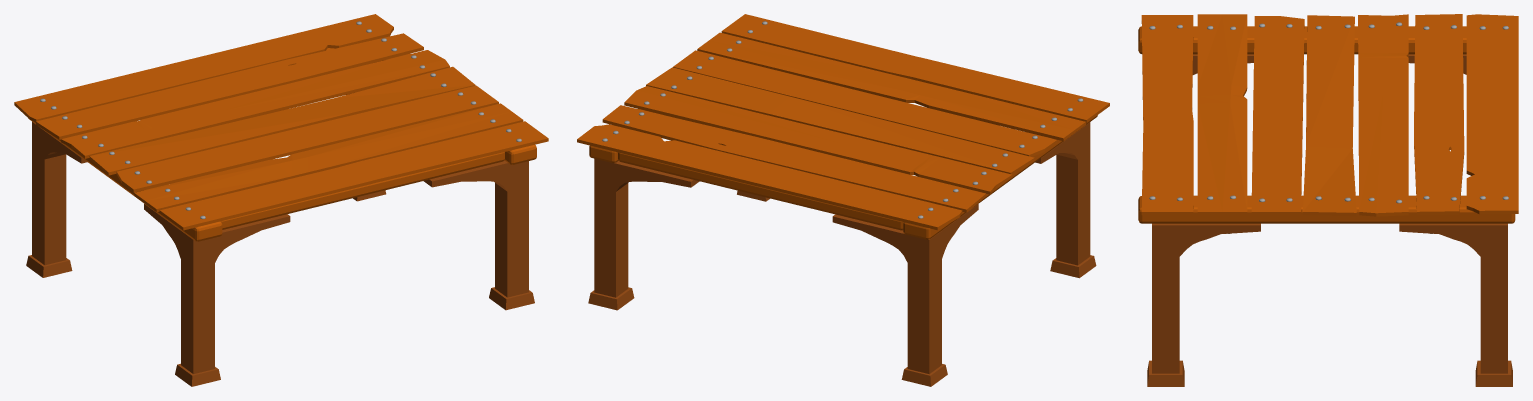
Rendered from Table2.fbx.
3 views of the same model, side by side, from view 1: azimuth 30°, elevation 25°; view 2: azimuth 150°, elevation 25°; view 3: azimuth 270°, elevation 25° (orthographic). The views are drawn at different scales.
Parts seen in each view (by area): view 1: Table2_LOD0; view 2: Table2_LOD0; view 3: Table2_LOD0.
Boxes of the visible parts, x1,y1,x2,y2 form: Table2_LOD0: (14, 14, 548, 386); Table2_LOD0: (577, 14, 1109, 386); Table2_LOD0: (1138, 14, 1518, 386).
Size of what is drawn, in the model's own units: 825 by 352 by 664.
